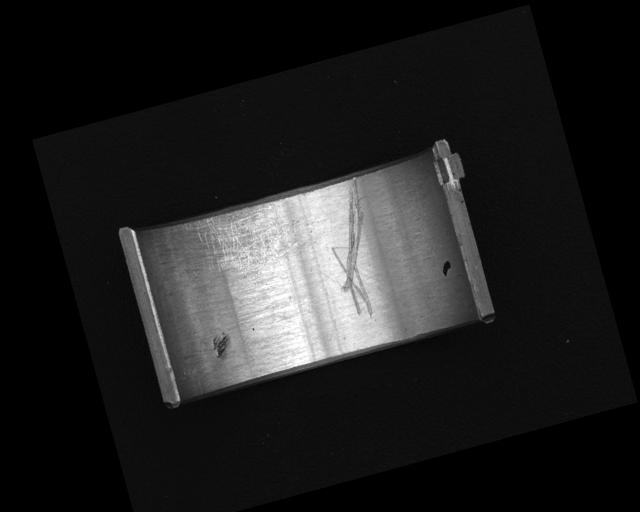blot: (438, 258, 454, 278)
bruise: (208, 330, 234, 362)
nick: (313, 175, 395, 322)
scratch: (185, 191, 317, 284)
